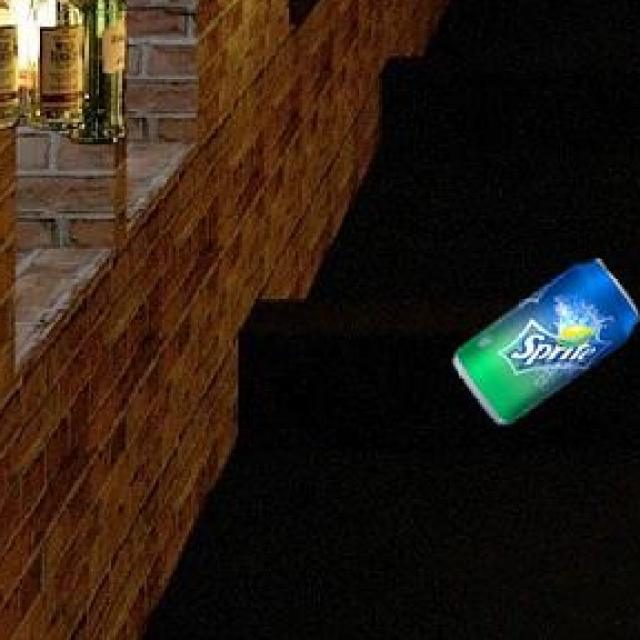logam: (459, 263, 640, 428)
